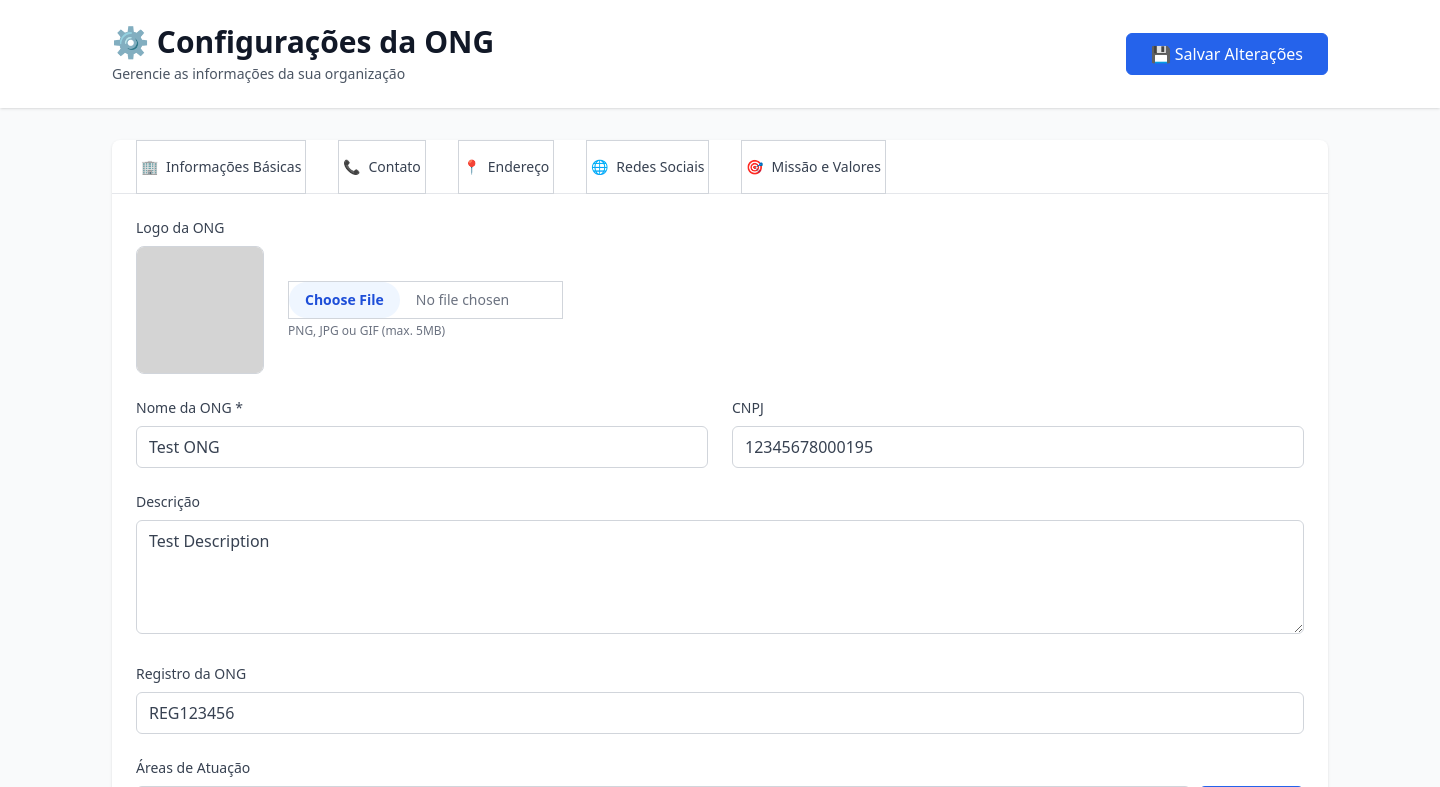
Test: ONGSettingsPage › Address Tab › should display state dropdown options
The image size is (1440, 787).
Click the button "📍Endereço".
click(506, 167)  # box [458,140,554,194]
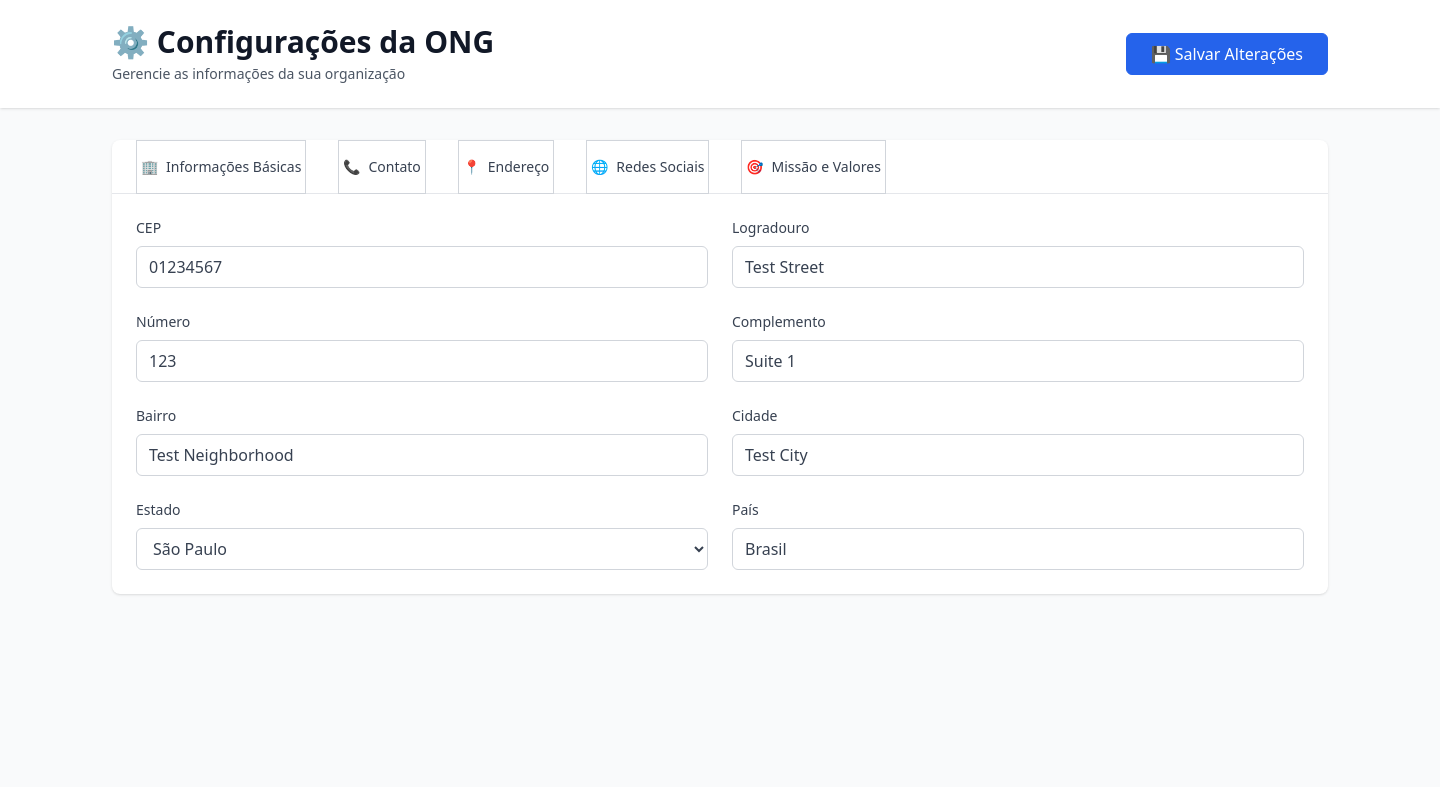
Check: the dropdown is shown, box [136,528,708,570]
